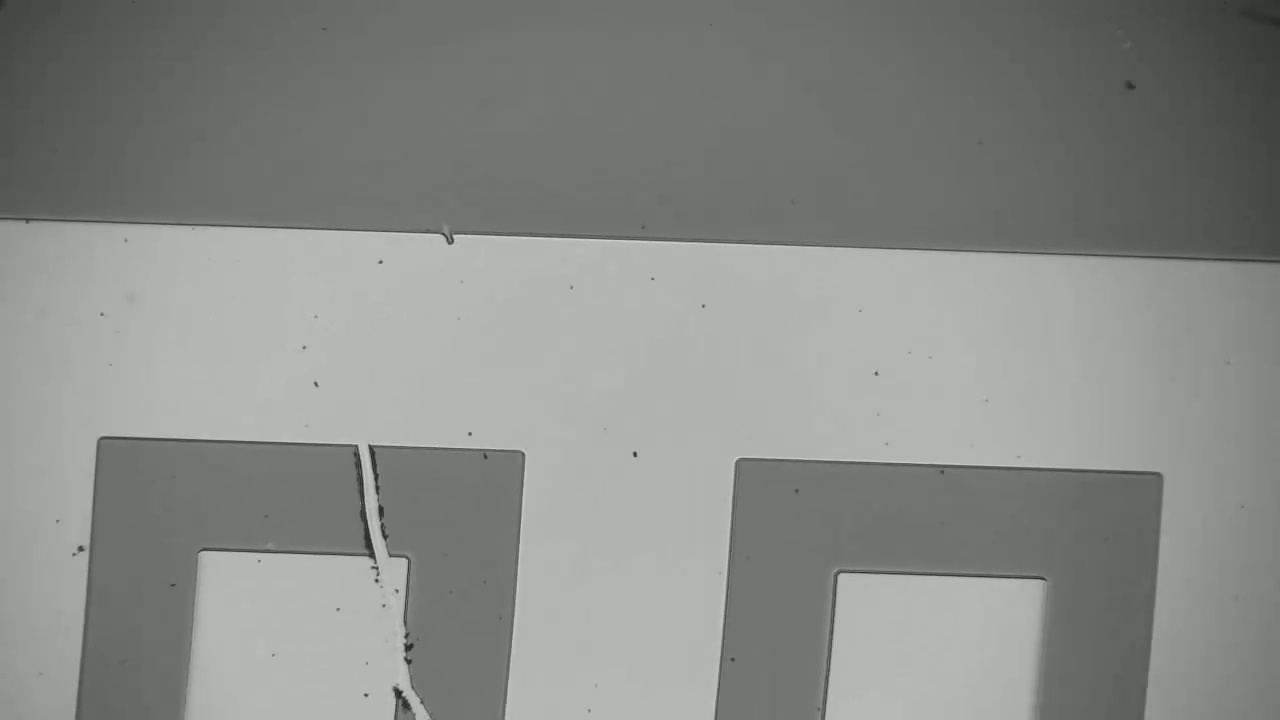Short_circuit: (320, 427, 405, 571)
